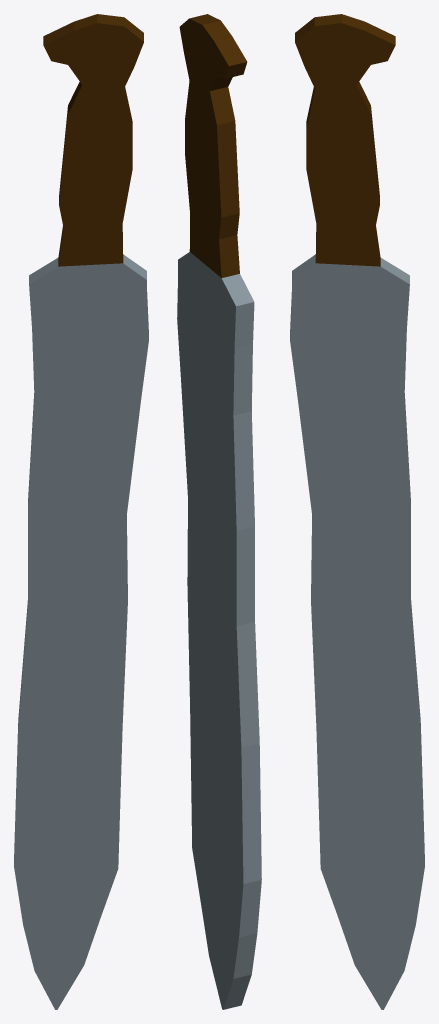
The model's file is Sztylet.fbx.
3 views of the same model, side by side, from view 1: azimuth 90°, elevation 25°; view 2: azimuth 210°, elevation 25°; view 3: azimuth 270°, elevation 25° (orthographic).
Visible parts, largest first — view 1: Plane; view 2: Plane; view 3: Plane.
Part boxes in pixels (bbox=[...]): Plane: bbox=[14, 14, 148, 1009]; Plane: bbox=[177, 14, 261, 1009]; Plane: bbox=[290, 14, 424, 1009].
Bounding box in the file's own units: 0.0857 × 4.31 × 0.5338.
